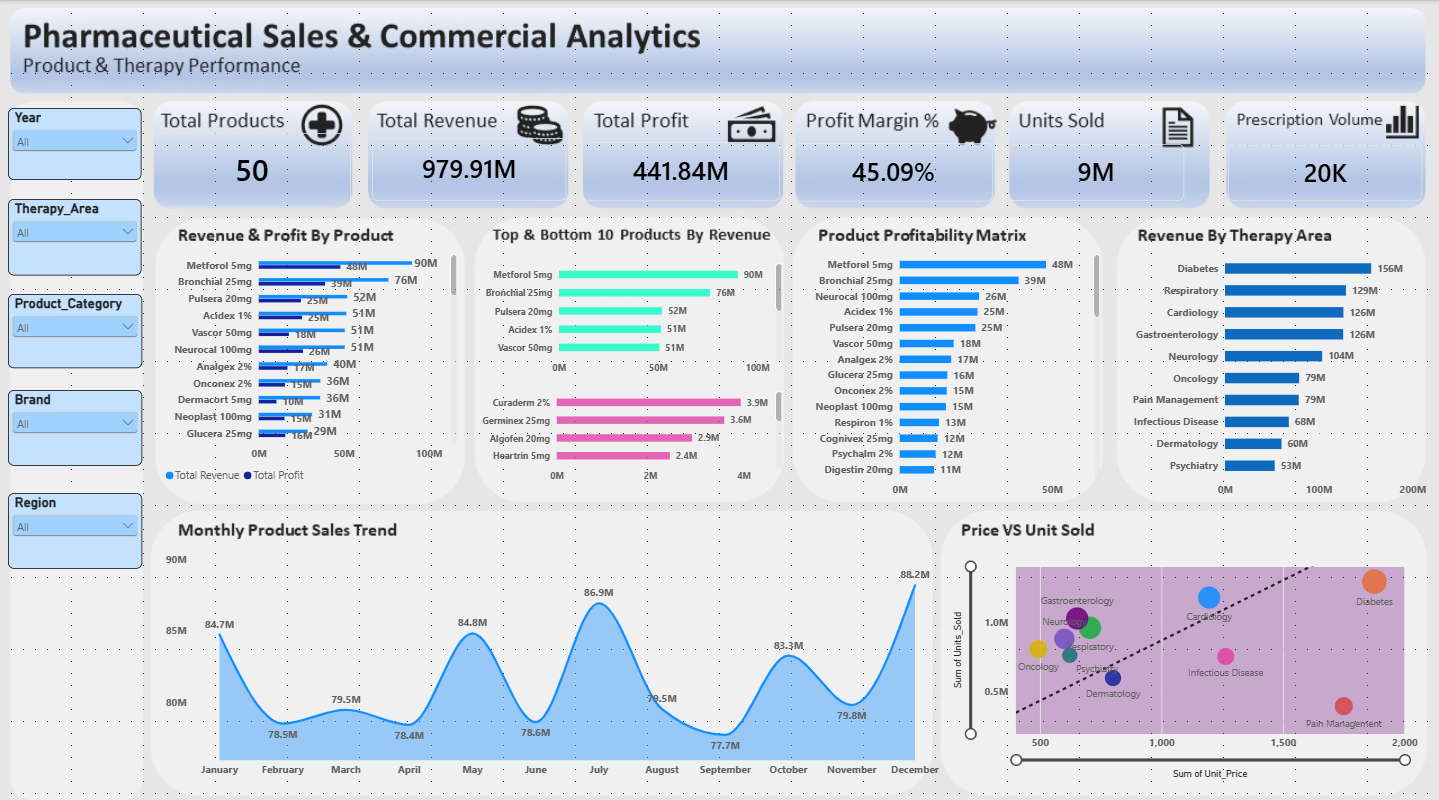

What the dashboard file says about the page in this screenshot:
{"tool":"powerbi","page":{"name":"Product & Therapy Performance","canvas":[1920,1080],"ordinal":1},"visuals":[{"type":"card","fields":{"Values":["Products.Total Products"]},"box":[205.3,176,264,98.7],"z":0},{"type":"card","fields":{"Values":["Sales.Total Revenue"]},"box":[496.8,182.9,259,83.8],"z":1000},{"type":"card","fields":{"Values":["Sales.Total Profit"]},"box":[777.1,187.4,263.6,79.2],"z":2000},{"type":"card","fields":{"Values":["Sales.Profit Margin %"]},"box":[1060.6,189,265.1,77.7],"z":3000},{"type":"card","fields":{"Values":["Sales.Total Unit Sold"]},"box":[1345.5,190.5,234.7,76.2],"z":4000},{"type":"card","fields":{"Values":["Prescriptions.Prescription Volume"]},"box":[1638.1,192,259,74.7],"z":5000},{"type":"clusteredBarChart","fields":{"Category":["Products.Product_Name"],"Y":["Sales.Total Revenue","Sales.Total Profit"]},"box":[205.3,316,421.3,346.7],"z":6000},{"type":"clusteredBarChart","fields":{"Category":["Products.Product_Name"],"Y":["Sales.Total Revenue"]},"box":[626.7,328,433.3,190.7],"z":7000},{"type":"clusteredBarChart","fields":{"Category":["Products.Product_Name"],"Y":["Sales.Total Revenue"]},"box":[626.7,498.7,433.3,164],"z":8000},{"type":"clusteredBarChart","fields":{"Category":["Products.Product_Name"],"Y":["Sales.Total Profit"]},"box":[1060,316,424,364],"z":9000},{"type":"clusteredBarChart","fields":{"Category":["Products.Therapy_Area"],"Y":["Sales.Total Revenue"]},"box":[1494,316,424,364],"z":10000},{"type":"areaChart","fields":{"Category":["Date.Date.Variation.Date Hierarchy.Month"],"Y":["Sales.Total Revenue"]},"box":[205.3,720,1066.7,333.3],"z":11000},{"type":"scatterChart","fields":{"X":["Sum(Products.Unit_Price)"],"Y":["Sum(Sales.Units_Sold)"],"Series":["Products.Therapy_Area"],"Size":["Sales.Total Revenue"]},"box":[1254.7,732,653.3,321.3],"z":12000},{"type":"slicer","fields":{"Values":["Date.Date.Variation.Date Hierarchy.Year"]},"box":[12.2,143.2,178.3,96],"z":13000},{"type":"slicer","fields":{"Values":["Products.Therapy_Area"]},"box":[12,264,178.3,102.1],"z":14000},{"type":"slicer","fields":{"Values":["Products.Product_Category"]},"box":[12,390.7,178.7,98.7],"z":15000},{"type":"slicer","fields":{"Values":["Products.Brand"]},"box":[12,518.7,178.7,101.3],"z":16000},{"type":"slicer","fields":{"Values":["Distributors.Region"]},"box":[12,656,178.7,101.3],"z":17000}]}

Visuals, with their boxes in screenshot pixels (x1, y1, x2, y2), scaled from the page's 1920x1080 canvas onto the 1439x800 screenshot:
card - Products.Total Products: rect(154, 130, 352, 203)
card - Sales.Total Revenue: rect(372, 135, 566, 198)
card - Sales.Total Profit: rect(582, 139, 780, 197)
card - Sales.Profit Margin %: rect(795, 140, 994, 198)
card - Sales.Total Unit Sold: rect(1008, 141, 1184, 198)
card - Prescriptions.Prescription Volume: rect(1228, 142, 1422, 198)
clusteredBarChart - Products.Product_Name x Sales.Total Revenue: rect(154, 234, 470, 491)
clusteredBarChart - Products.Product_Name x Sales.Total Revenue: rect(470, 243, 794, 384)
clusteredBarChart - Products.Product_Name x Sales.Total Revenue: rect(470, 369, 794, 491)
clusteredBarChart - Products.Product_Name x Sales.Total Profit: rect(794, 234, 1112, 504)
clusteredBarChart - Products.Therapy_Area x Sales.Total Revenue: rect(1120, 234, 1438, 504)
areaChart - Date.Date.Variation.Date Hierarchy.Month x Sales.Total Revenue: rect(154, 533, 953, 780)
scatterChart - Sum(Products.Unit_Price) x Sum(Sales.Units_Sold): rect(940, 542, 1430, 780)
slicer - Date.Date.Variation.Date Hierarchy.Year: rect(9, 106, 143, 177)
slicer - Products.Therapy_Area: rect(9, 196, 143, 271)
slicer - Products.Product_Category: rect(9, 289, 143, 363)
slicer - Products.Brand: rect(9, 384, 143, 459)
slicer - Distributors.Region: rect(9, 486, 143, 561)
